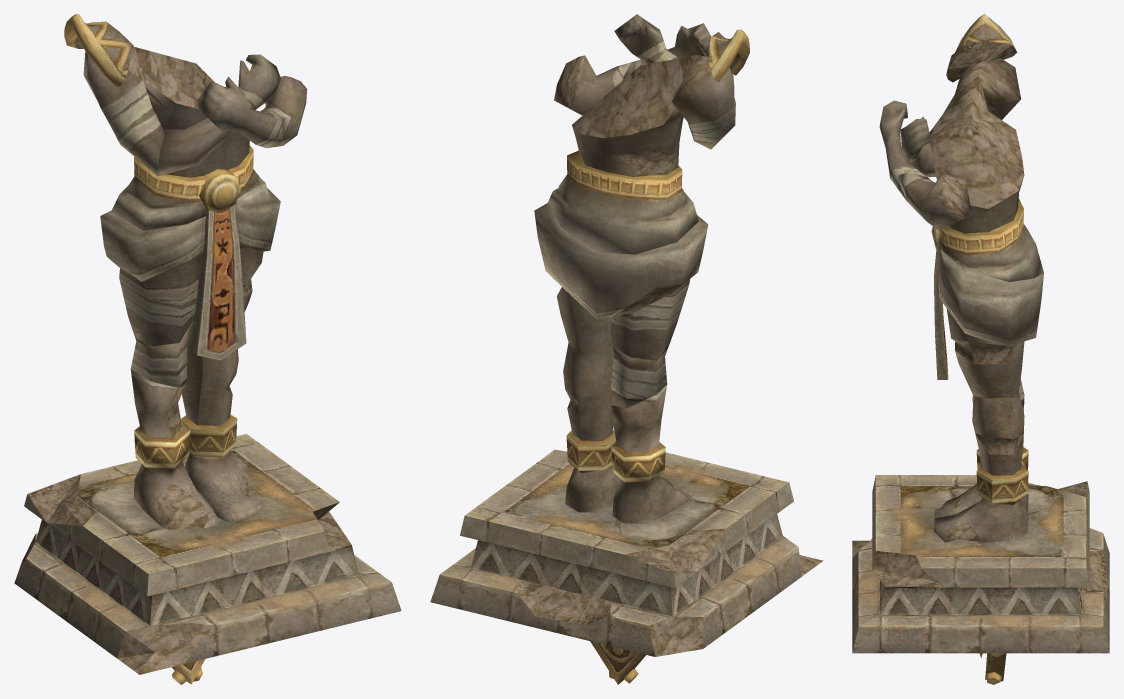
The model's file is shixiang.fbx.
3 views of the same model, side by side, from view 1: azimuth 30°, elevation 25°; view 2: azimuth 150°, elevation 25°; view 3: azimuth 270°, elevation 25° (orthographic). The views are drawn at different scales.
Parts seen in each view (by area): view 1: shixiang; view 2: shixiang, polySurface363; view 3: shixiang, polySurface363.
Boxes of the visible parts, x1,y1,x2,y2 form: shixiang: [14, 14, 401, 674]; shixiang: [430, 14, 823, 656]; polySurface363: [590, 641, 645, 684]; shixiang: [852, 14, 1109, 653]; polySurface363: [985, 653, 1006, 684].
Bounding box in the file's own units: 184 × 471 × 178.
